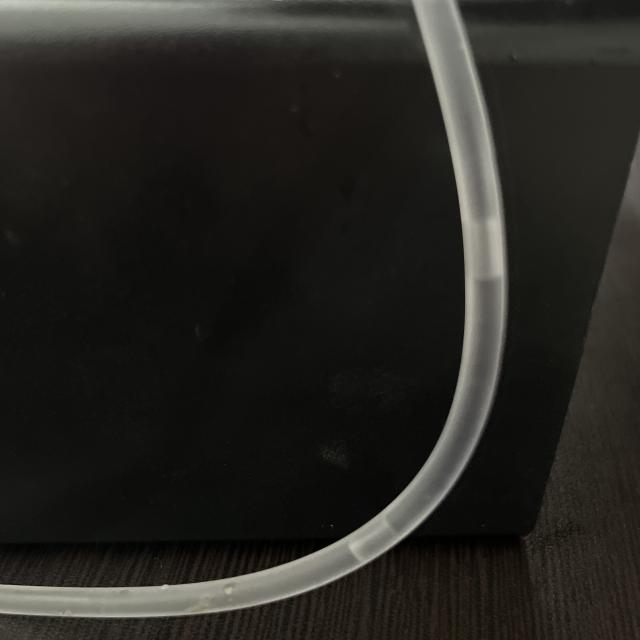bubble: (438, 208, 534, 300), (332, 510, 417, 575)
